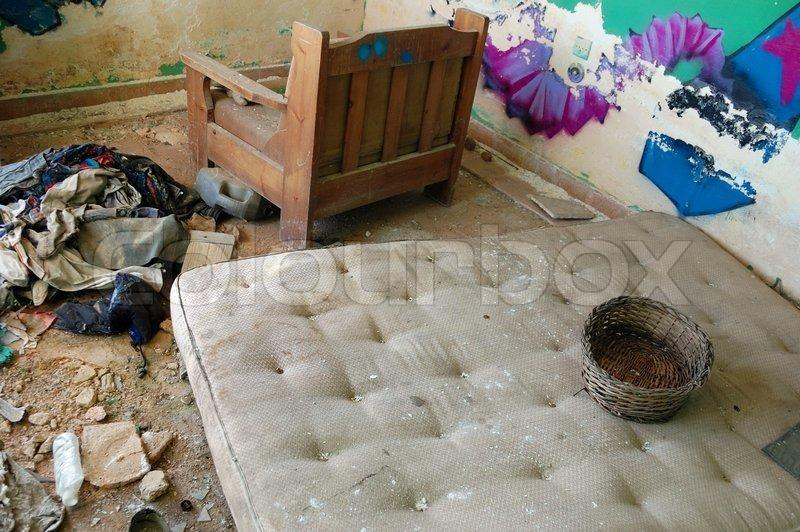Bed-Mattress: (172, 213, 800, 532)
